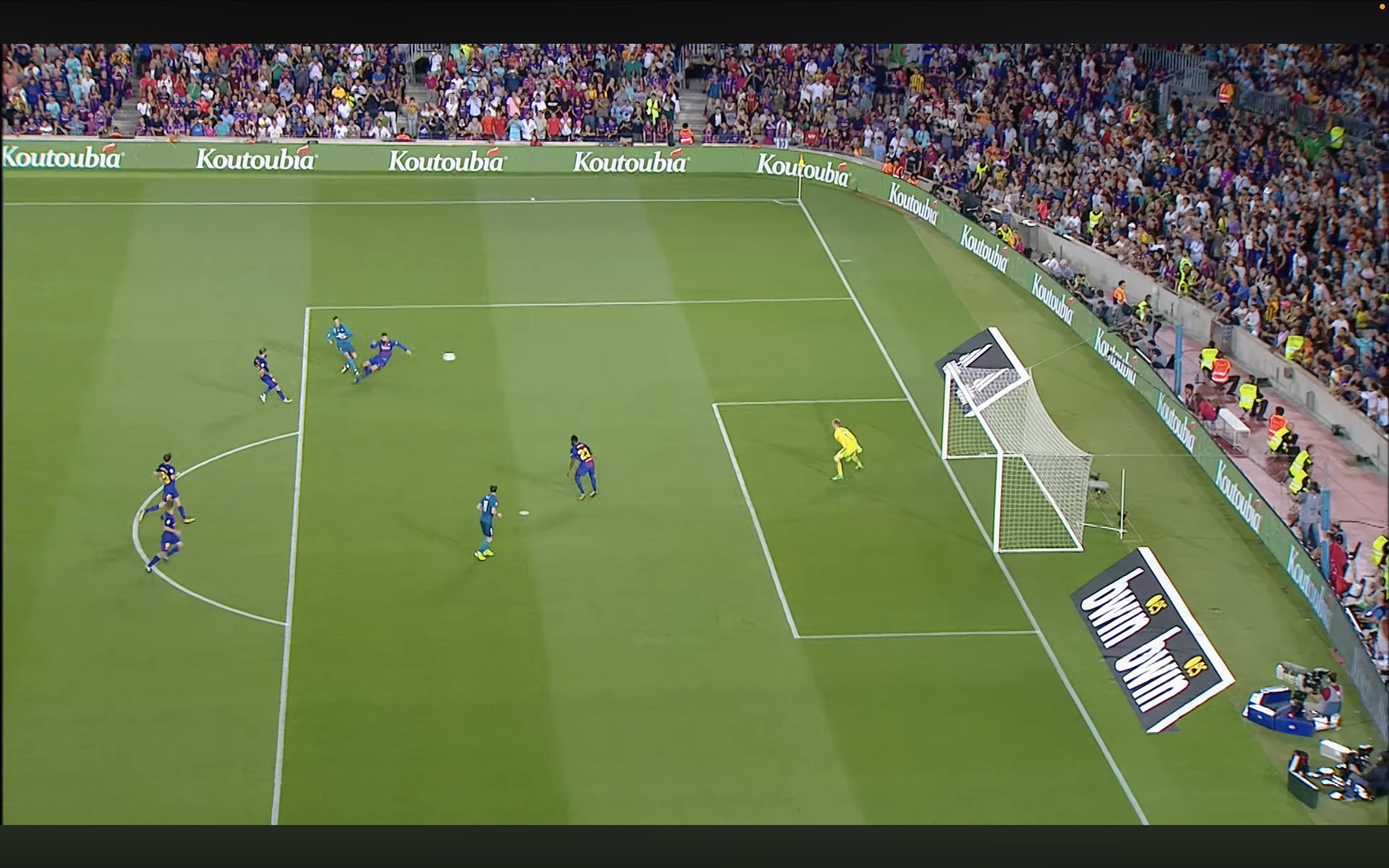ball: (442, 352, 456, 361)
goalkeeper: (832, 419, 863, 480)
player: (140, 453, 195, 523), (354, 333, 411, 384), (146, 500, 181, 572), (253, 347, 291, 403), (475, 485, 501, 560), (568, 435, 597, 501), (327, 317, 358, 374)
